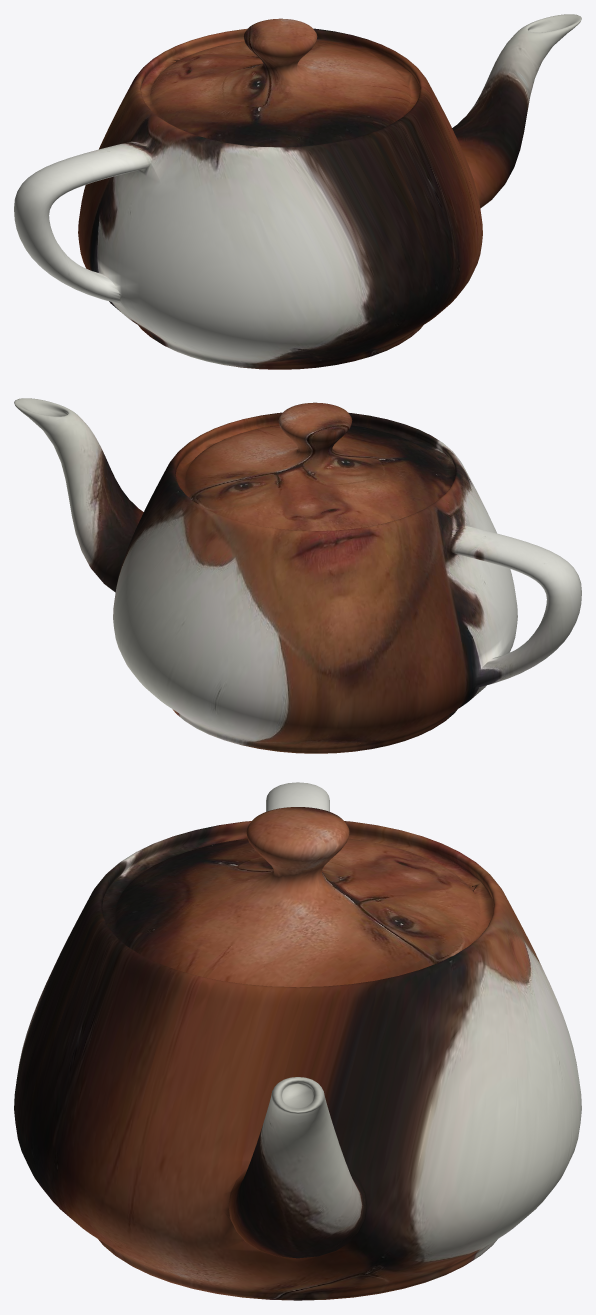
File: tiny_teapet.gltf
3 views of the same model, one above another, from view 1: azimuth 30°, elevation 25°; view 2: azimuth 150°, elevation 25°; view 3: azimuth 270°, elevation 25° (orthographic). The views are drawn at different scales.
Parts seen in each view (by area): view 1: teapot_tiny; view 2: teapot_tiny; view 3: teapot_tiny.
Boxes of the visible parts, x1,y1,x2,y2 form: teapot_tiny: (14,14,581,369); teapot_tiny: (14,398,581,753); teapot_tiny: (14,782,581,1300).
Bounding box in the file's own units: 1.97 × 0.9593 × 1.22.
1 material, 1 textured.
